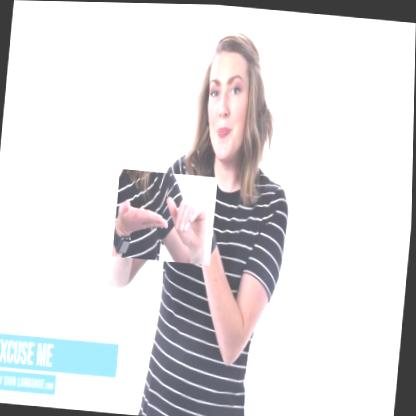ExcuseMe: (113, 169, 219, 264)
